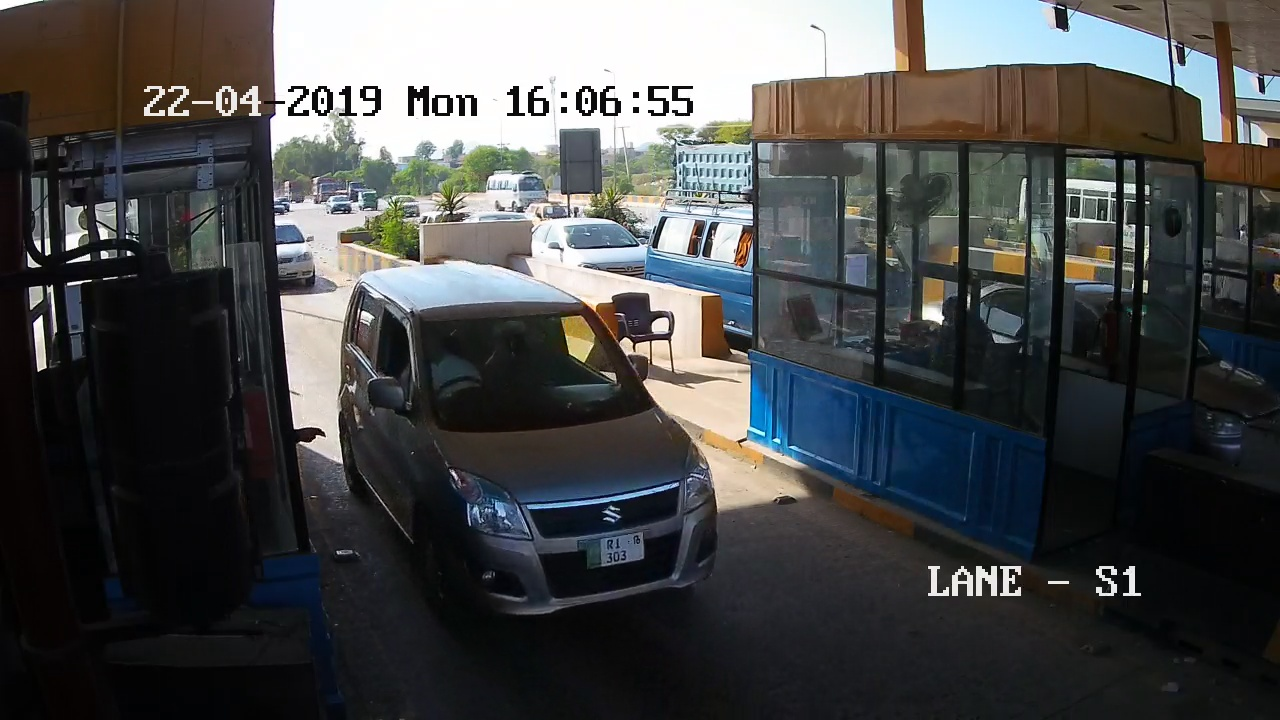Number Plate (Car): (582, 534, 653, 564)
